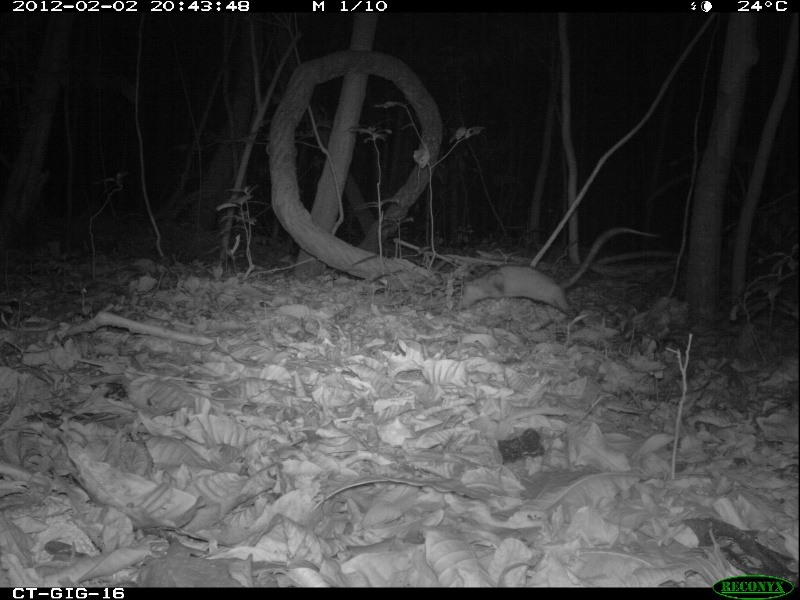opossum: (454, 219, 663, 325)
